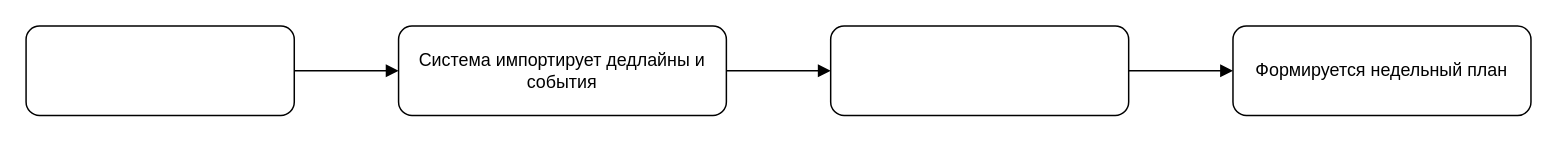
Some shapes in this 1557 by 142 pixel diagram are drawn without their labels. Each missing label, with the centre of its shape:
DMN определяет приоритет: the point at 979,70
Студент выбирает задачи: the point at 159,70
